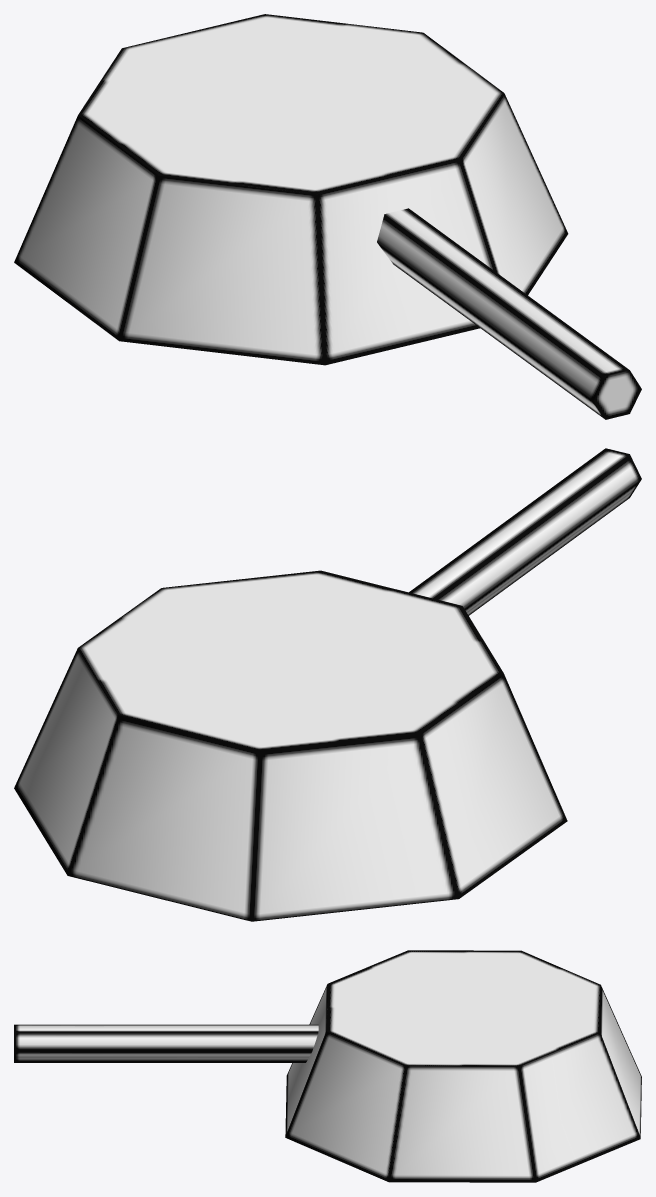
File: Turret1.obj
3 renders of one model, top to bottom at view 1: azimuth 30°, elevation 25°; view 2: azimuth 150°, elevation 25°; view 3: azimuth 270°, elevation 25°, orthographic. The views are drawn at different scales.
Parts seen in each view (by area): view 1: Cylinder02; view 2: Cylinder02; view 3: Cylinder02.
Part boxes in pixels (bbox=[...]): Cylinder02: bbox=[14, 14, 641, 419]; Cylinder02: bbox=[14, 448, 641, 921]; Cylinder02: bbox=[14, 950, 641, 1182].
Size of the model in its own units: 1.85 by 0.5691 by 3.27.
1 material, 1 textured.
